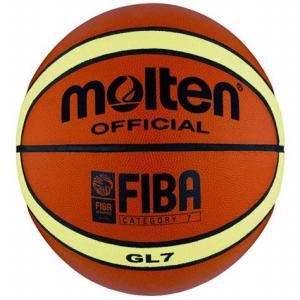Basket: (16, 2, 285, 296)
